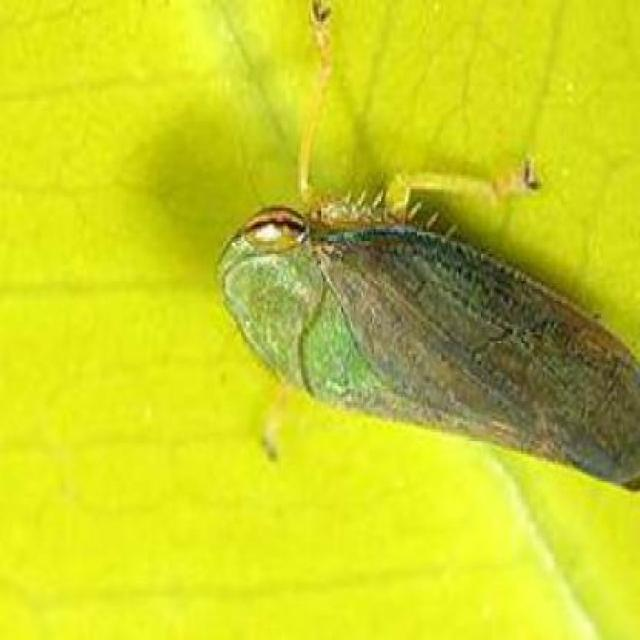green-leafhopper: (235, 198, 637, 477)
